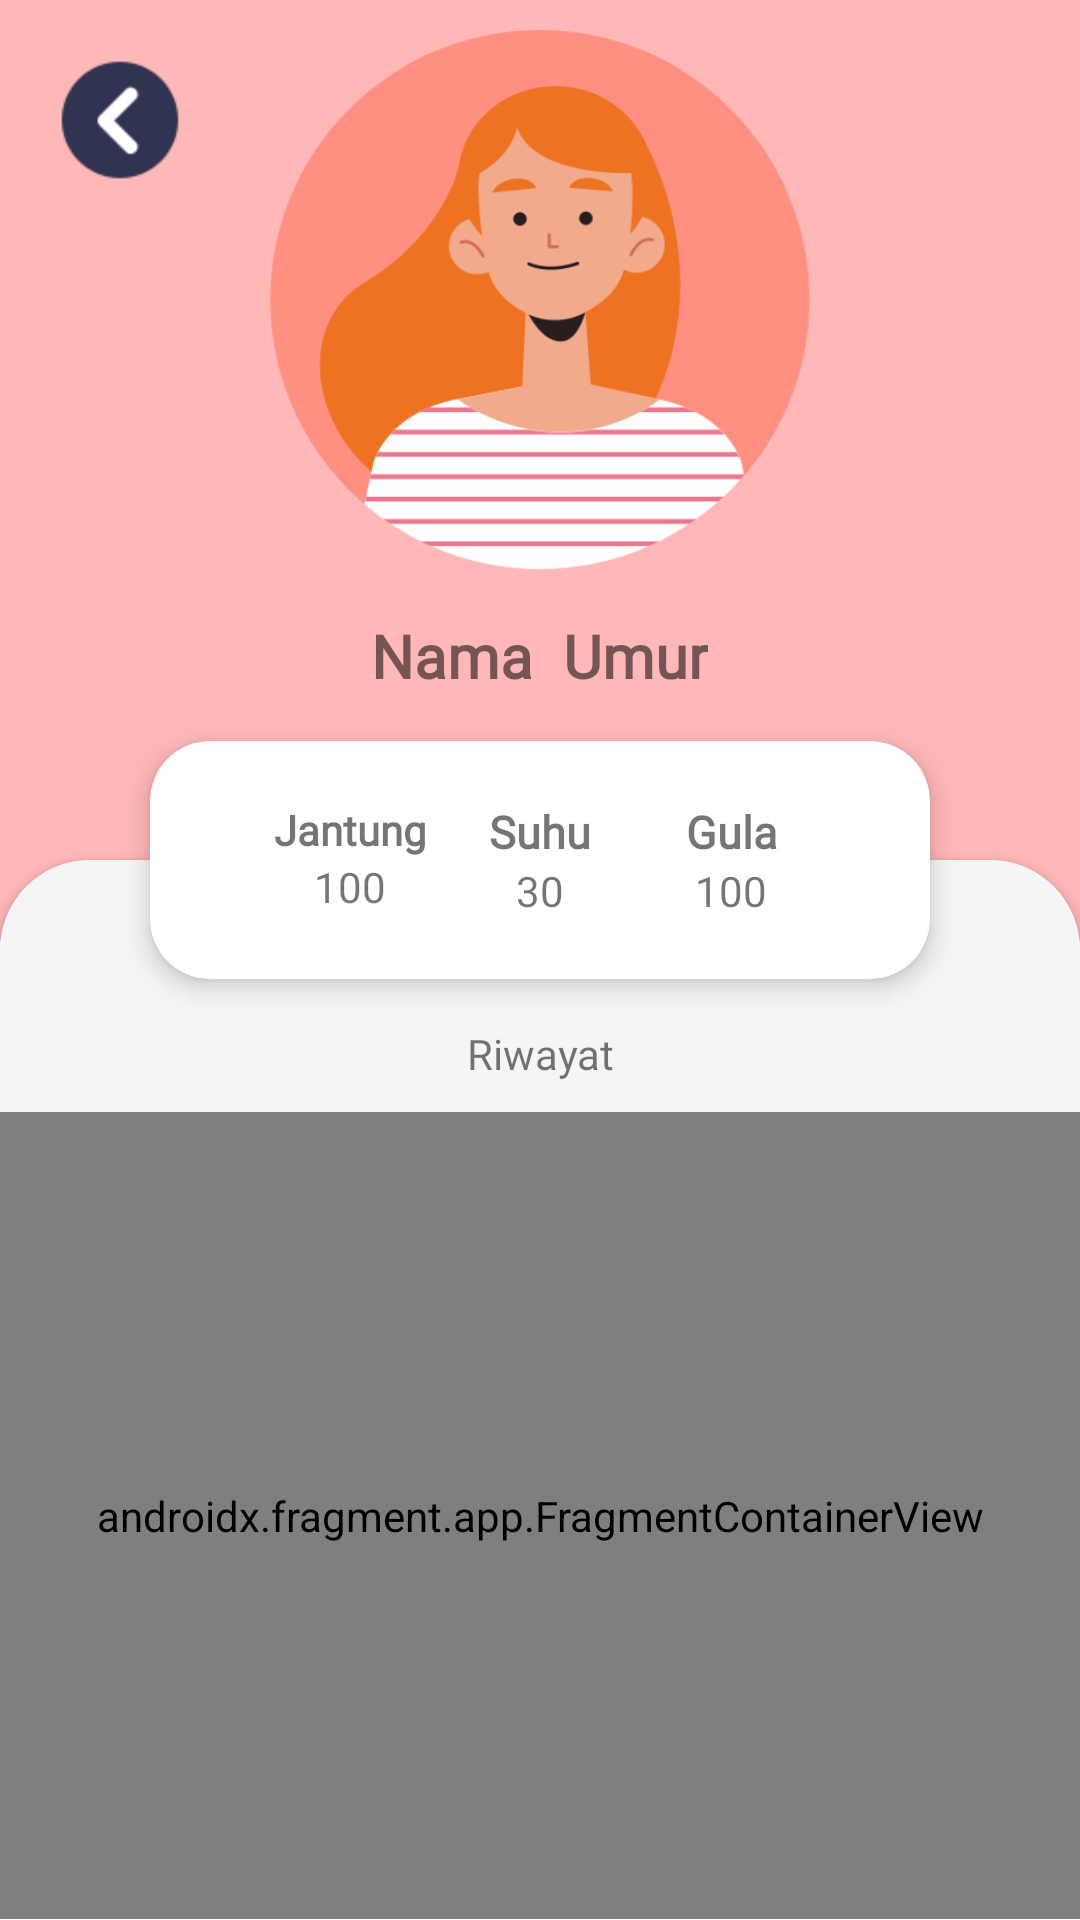

Where icons sit on this 1080 × 1920 app screen, as (x1, y1, x2, y2):
back: (61, 61, 179, 179)
